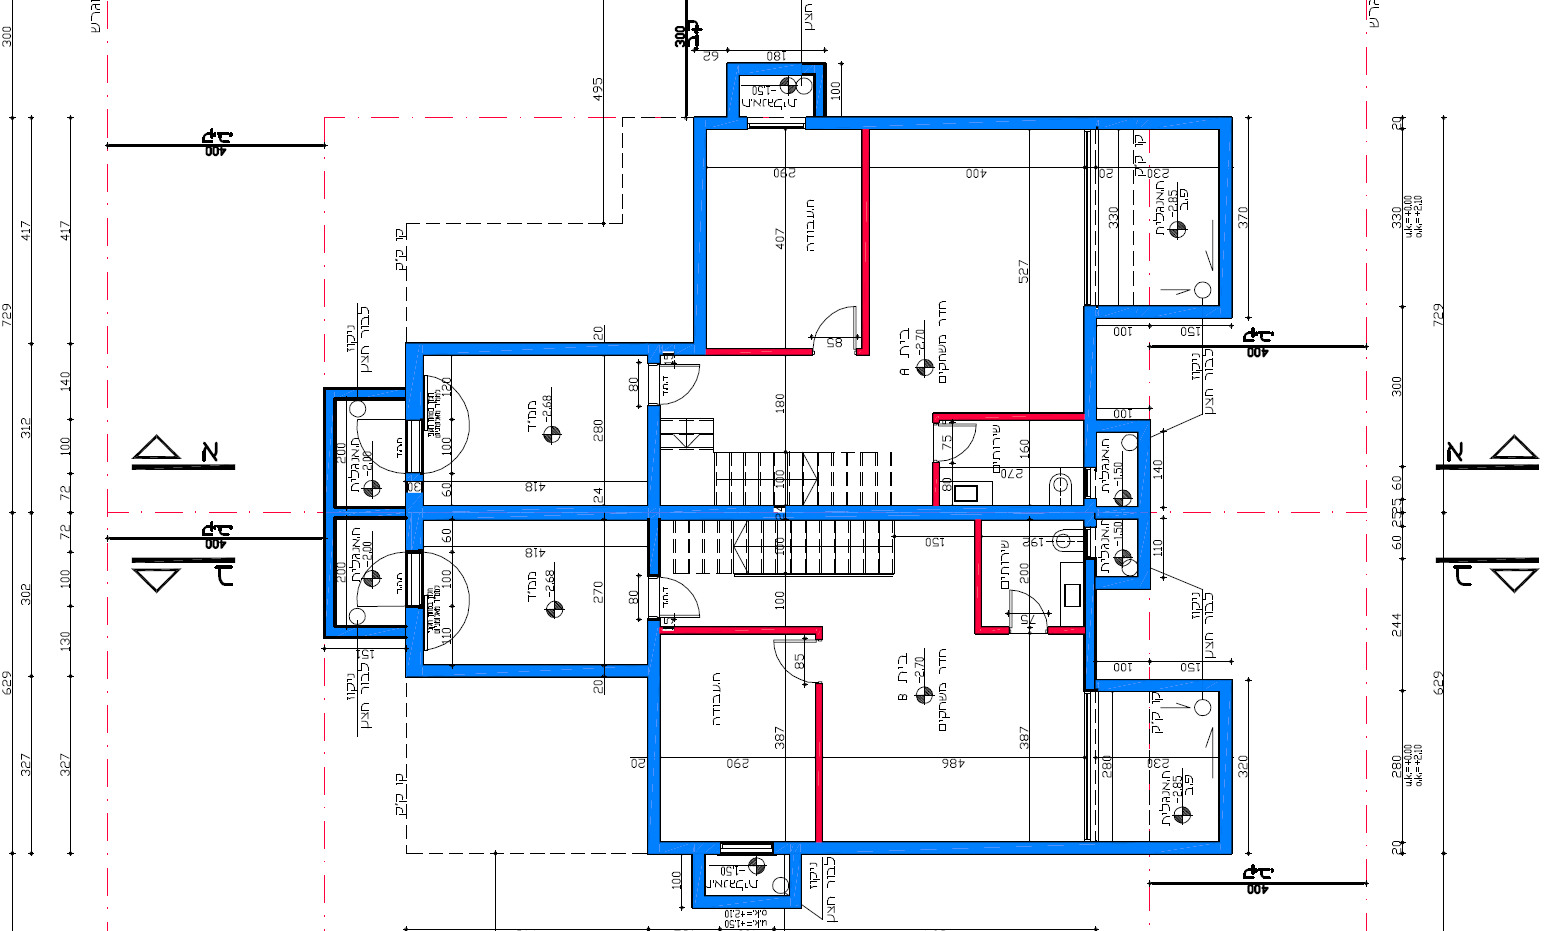wall: (408, 505, 665, 520), (647, 623, 662, 851), (405, 342, 645, 356), (404, 665, 647, 677)
